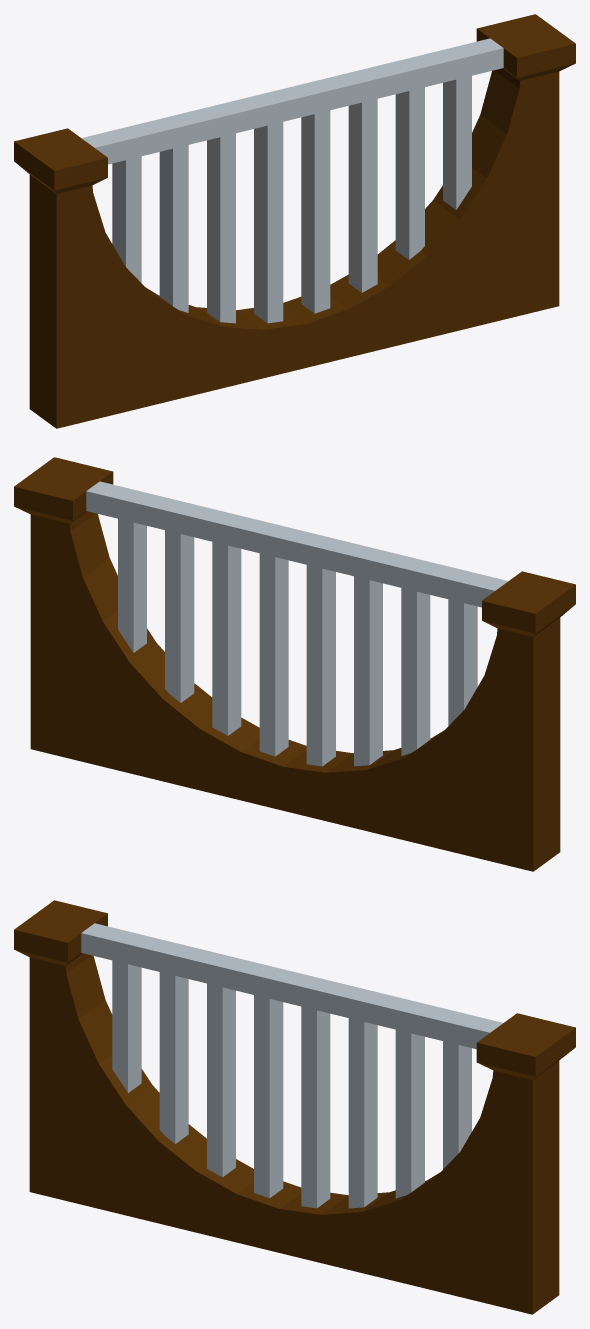
Rendered from parkfence.fbx.
The picture shows the model from 3 angles, top to bottom: view 1: azimuth 30°, elevation 25°; view 2: azimuth 150°, elevation 25°; view 3: azimuth 330°, elevation 25°; orthographic projection.
Parts seen in each view (by area): view 1: Cube; view 2: Cube; view 3: Cube.
Part boxes in pixels (box(x1,y1,x2,y2)): Cube: box(14, 14, 575, 428); Cube: box(14, 457, 575, 871); Cube: box(14, 900, 575, 1314).
Bounding box in the file's own units: 1573 × 764 × 211.
